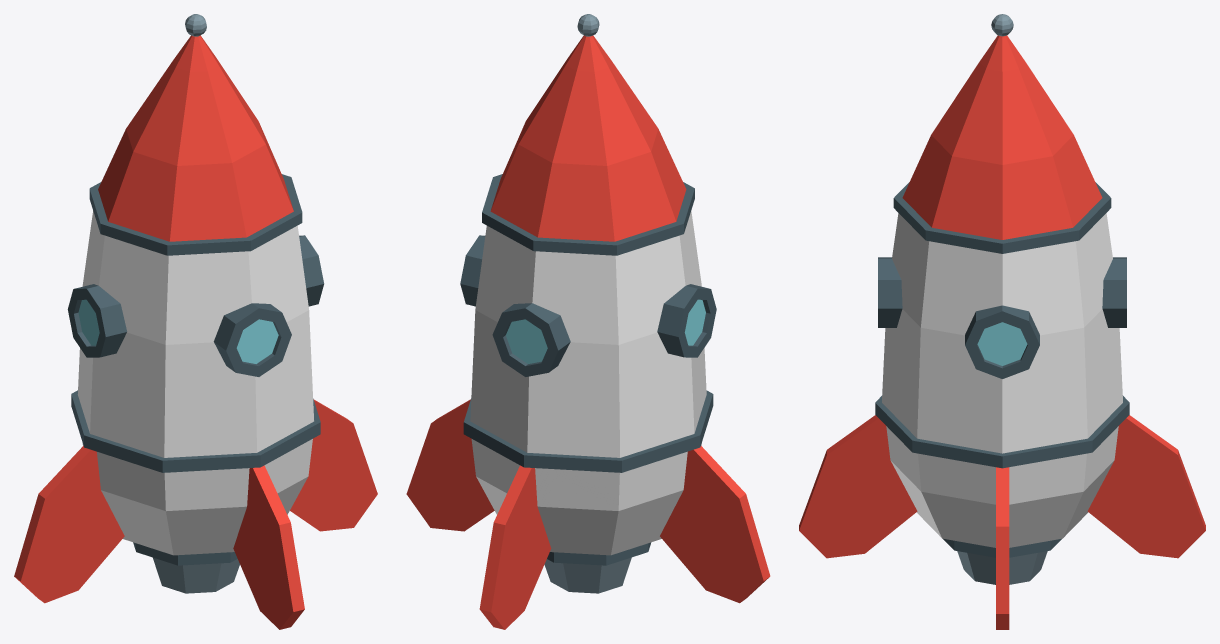
The model's file is Rocket_Ship_01.gltf.
3 views of the same model, side by side, from view 1: azimuth 30°, elevation 25°; view 2: azimuth 150°, elevation 25°; view 3: azimuth 270°, elevation 25° (orthographic).
Parts seen in each view (by area): view 1: node-0; view 2: node-0; view 3: node-0.
Boxes of the visible parts, x1,y1,x2,y2 form: node-0: (14,14,377,629); node-0: (406,14,770,629); node-0: (799,14,1205,629).
Bounding box in the file's own units: 6.59 × 9.92 × 6.59.
